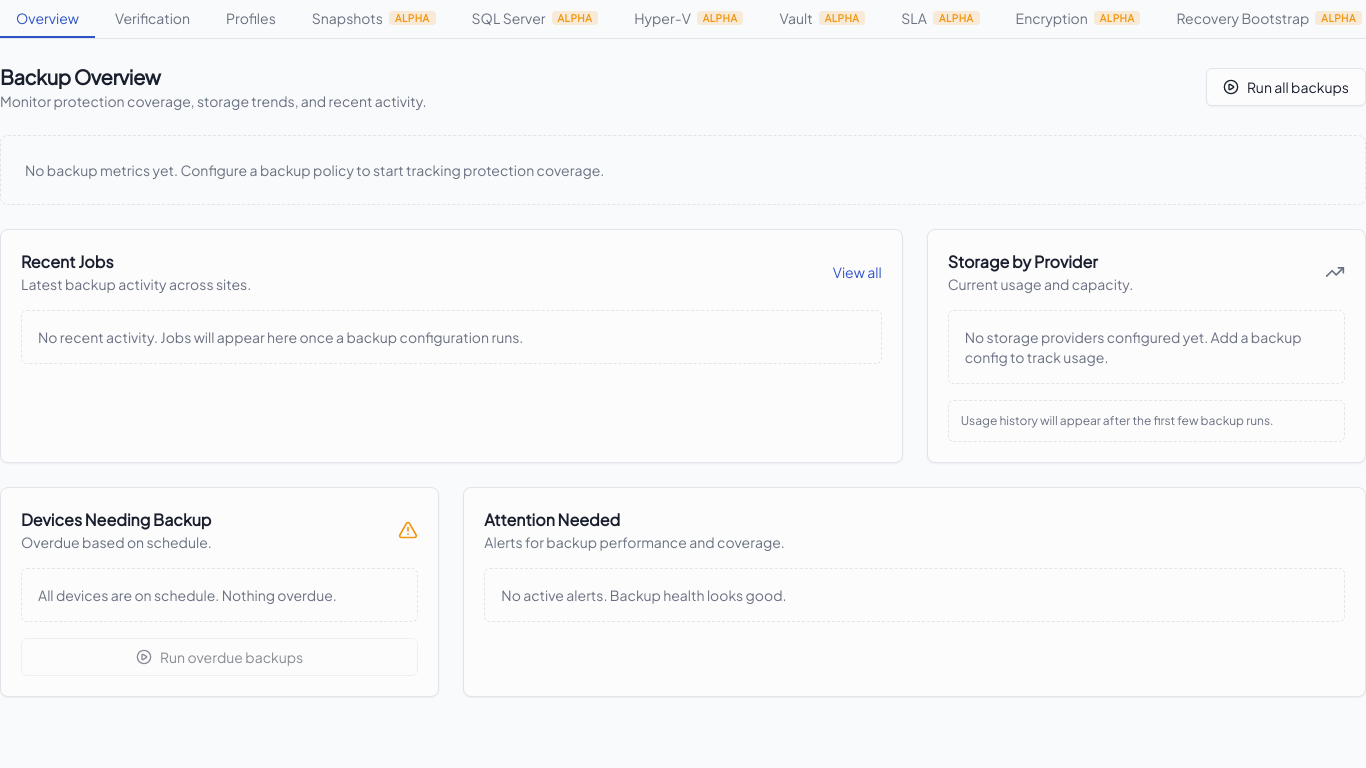
Test: BackupDashboard usage history chart › reports offline and already-running devices separately in run-all flows
Click the button "Run all backups". click: click(1286, 87)
box: x1=1206 y1=68 x2=1365 y2=106
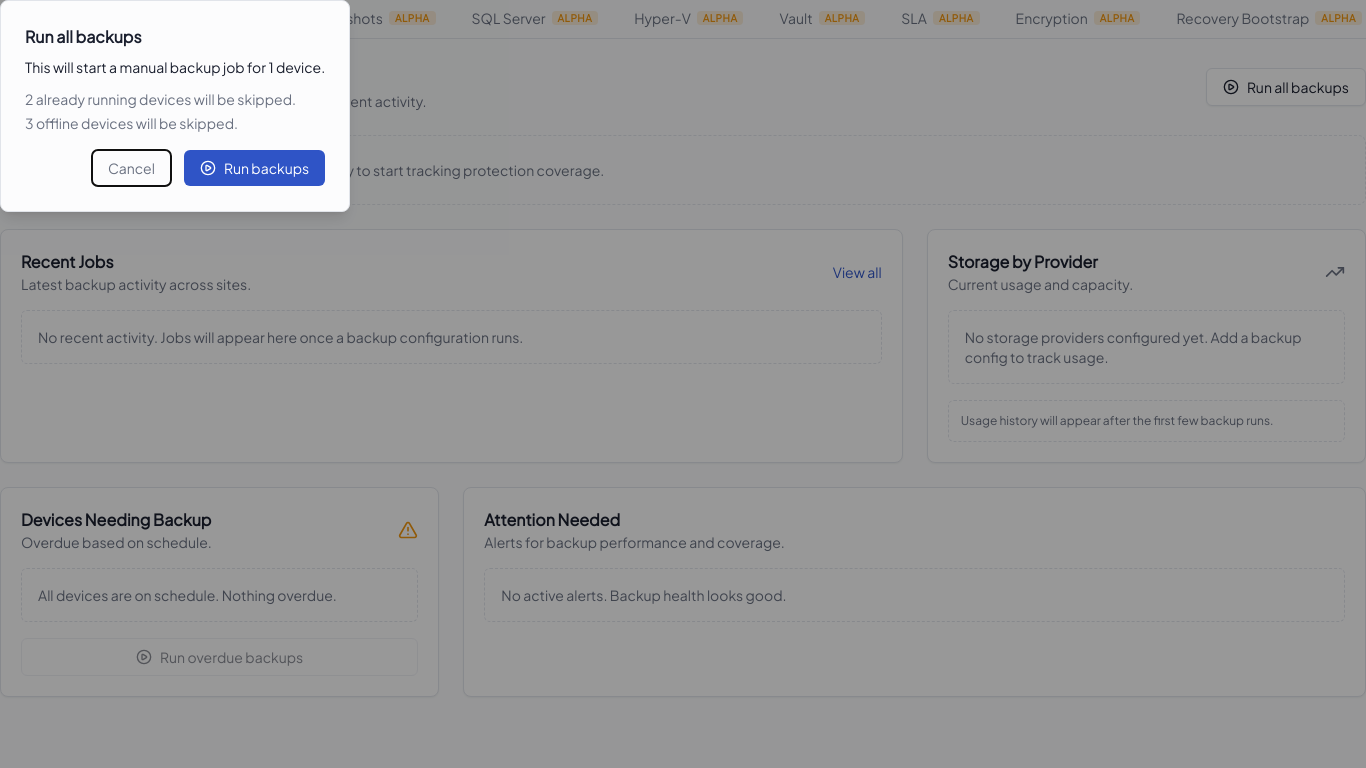
Expected: the text "This will start a manual backup job for 1 device." is shown, x1=25 y1=58 x2=325 y2=76
Expected: the text "2 already running devices will be skipped." is shown, x1=25 y1=89 x2=325 y2=109
Expected: the text "3 offline devices will be skipped." is shown, x1=25 y1=114 x2=238 y2=132
Click the button "Run backups". click: click(255, 168)
box: x1=184 y1=150 x2=325 y2=186
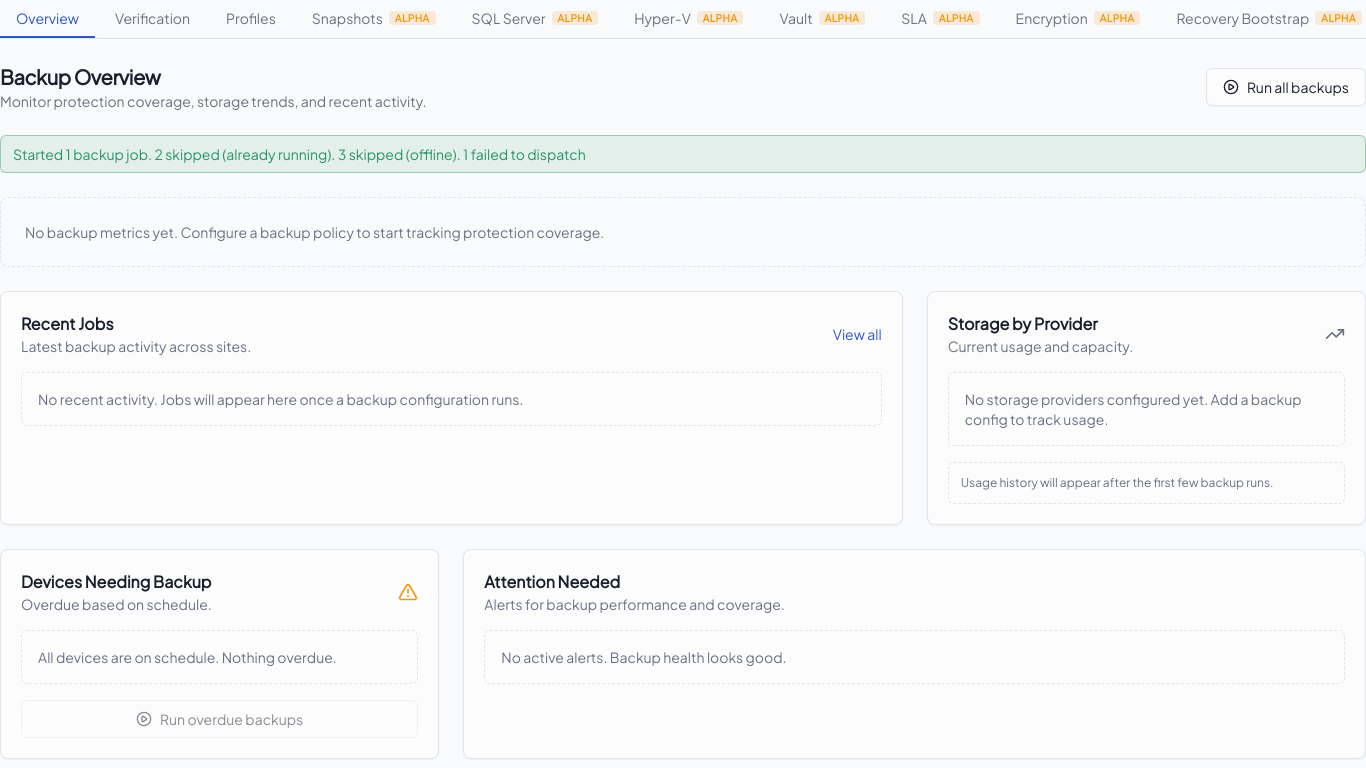
Expected: the text "Started 1 backup job. 2 skipped (already running). 3 skipped (offline). 1 failed to dispatch" is shown, x1=13 y1=145 x2=586 y2=163
